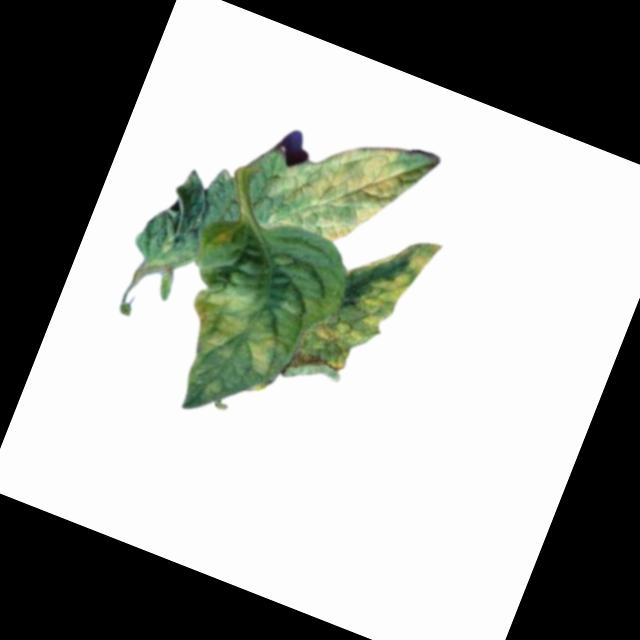Leaf_Mold: (286, 208, 443, 410), (261, 110, 433, 277), (175, 273, 261, 367), (236, 316, 295, 383)
